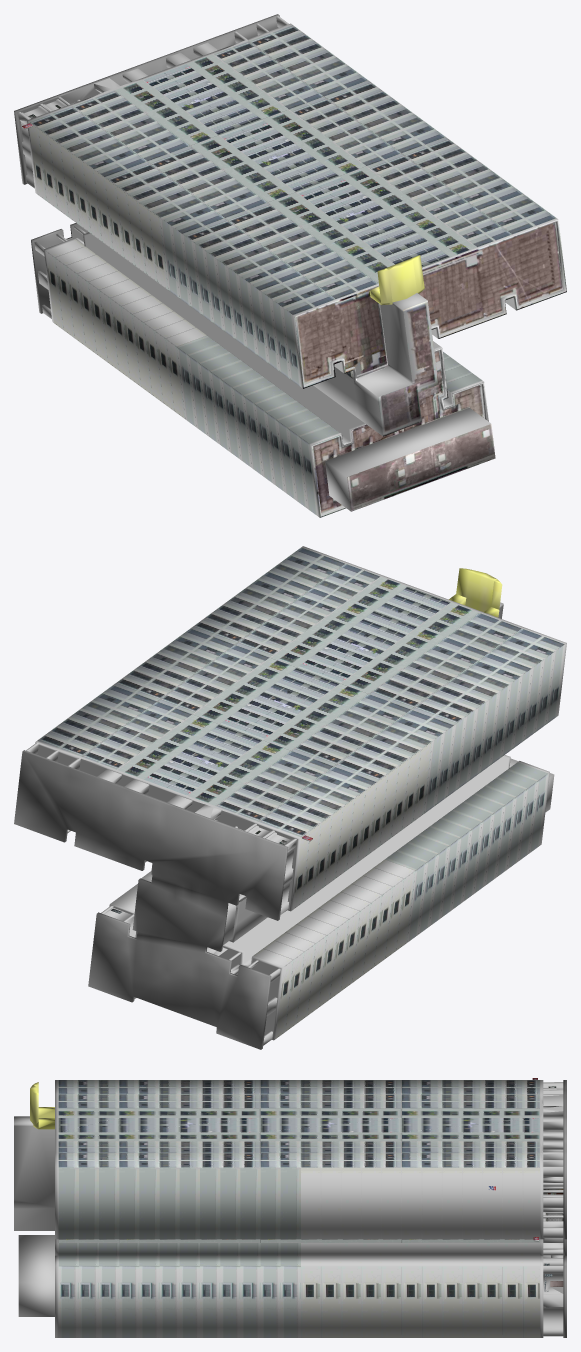
Rendered from amk_blk700c_building.obj.
3 renders of one model, top to bottom at view 1: azimuth 30°, elevation 25°; view 2: azimuth 150°, elevation 25°; view 3: azimuth 270°, elevation 25°, orthographic. The views are drawn at different scales.
Parts seen in each view (by area): view 1: polygon.847; view 2: polygon.847; view 3: polygon.847.
Part boxes in pixels (left/top/right/bottom): polygon.847: left=14, top=14, right=566, bottom=517; polygon.847: left=14, top=546, right=566, bottom=1049; polygon.847: left=14, top=1078, right=566, bottom=1337.
Size of the model in its own units: 43.11 by 35.35 by 78.53.
1 material, 1 textured.
